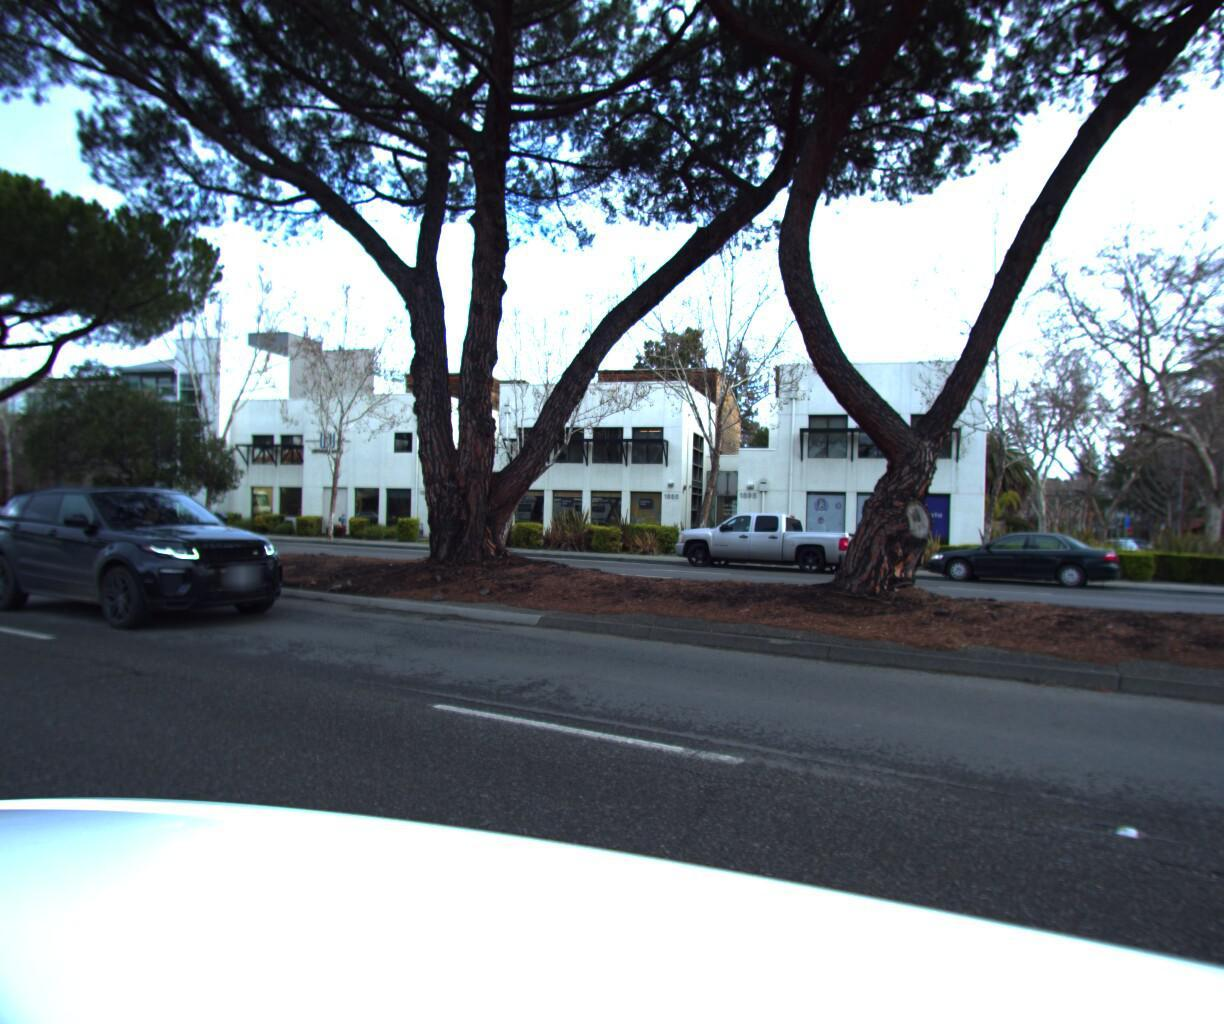car: (0, 488, 314, 646), (666, 513, 873, 585), (923, 532, 1120, 602), (953, 518, 1027, 544)
